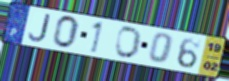0: (50, 15, 83, 50), (147, 31, 175, 66)
1: (90, 21, 105, 55)
6: (176, 37, 202, 70)
J: (27, 13, 51, 43)
O: (114, 26, 144, 60)
